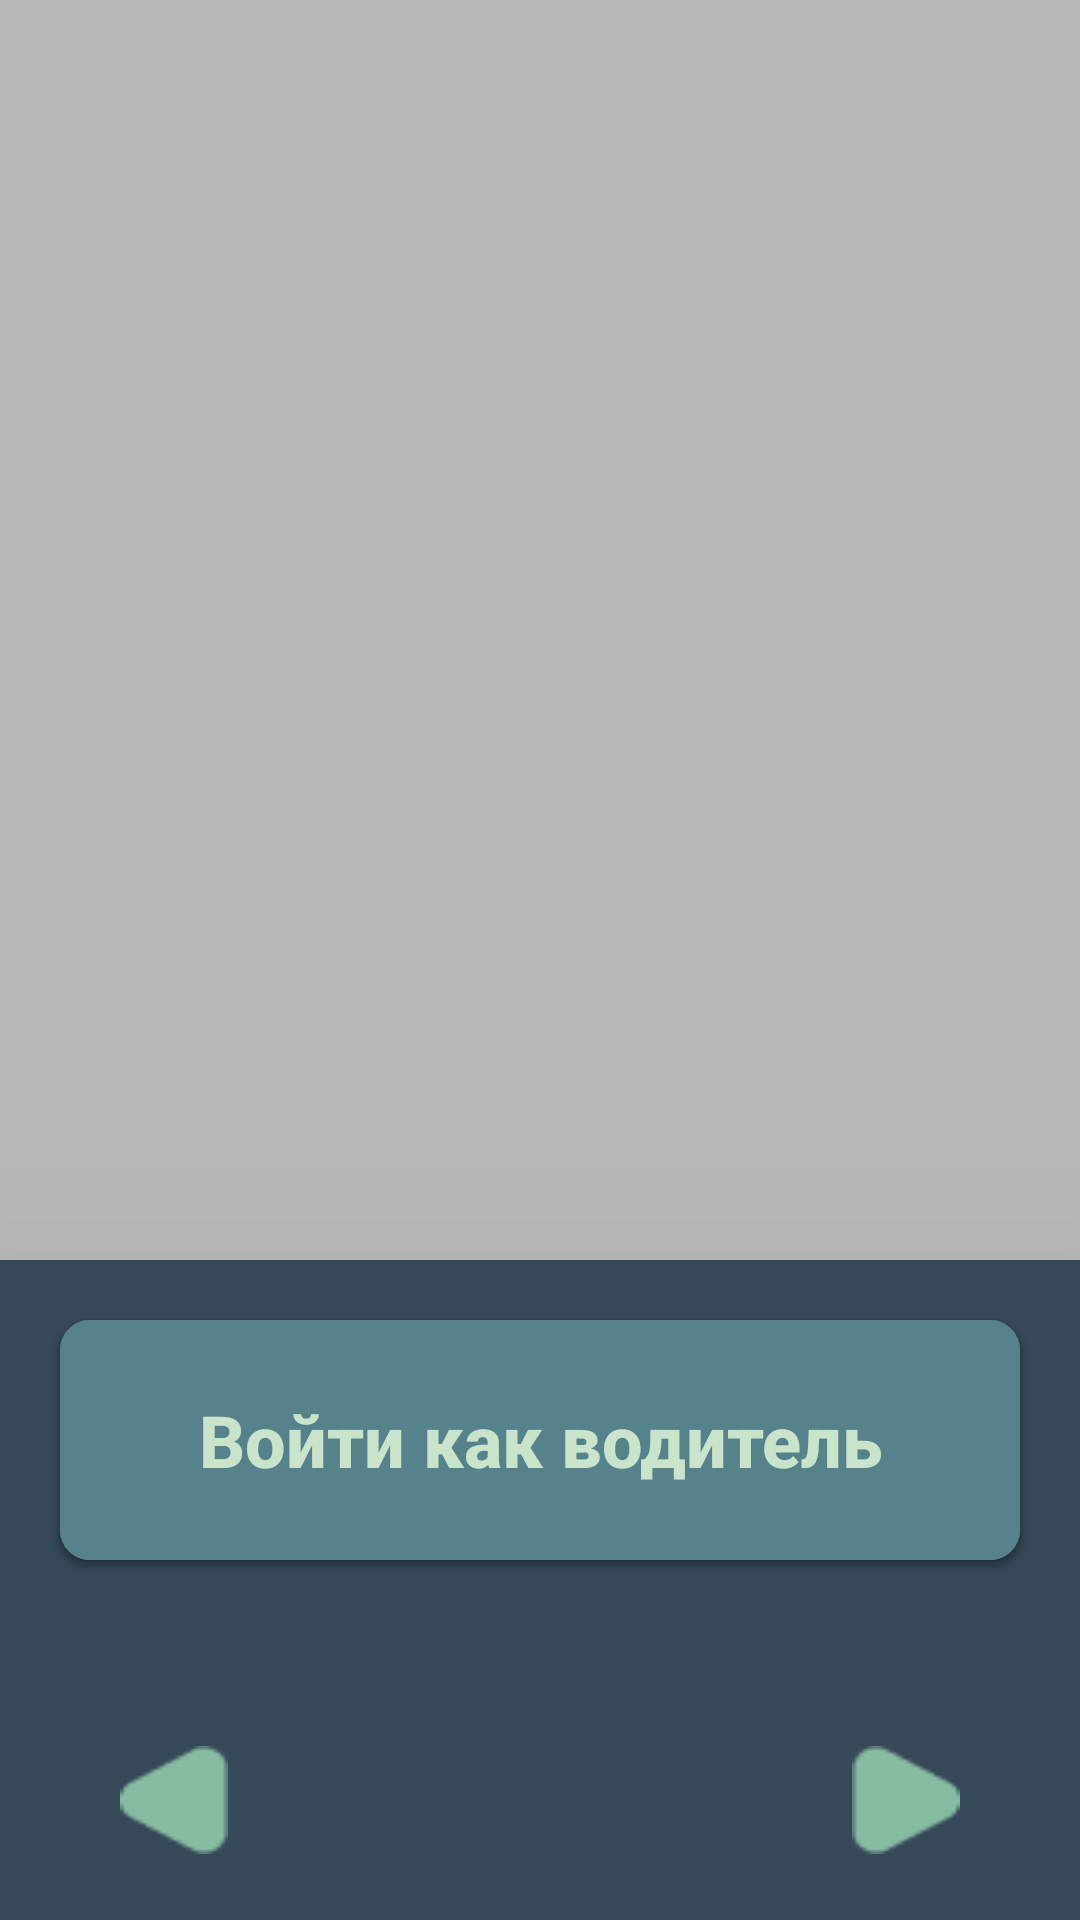

Named icons in this screenshot (1080 x 1920) and their centers, (x=x, y=y):
polygon: (x=174, y=1800), (x=906, y=1800)
